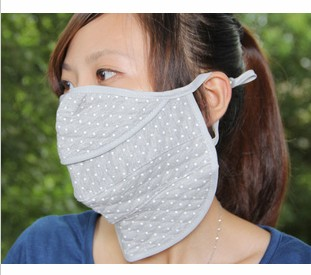face_mask: (56, 13, 172, 185)
